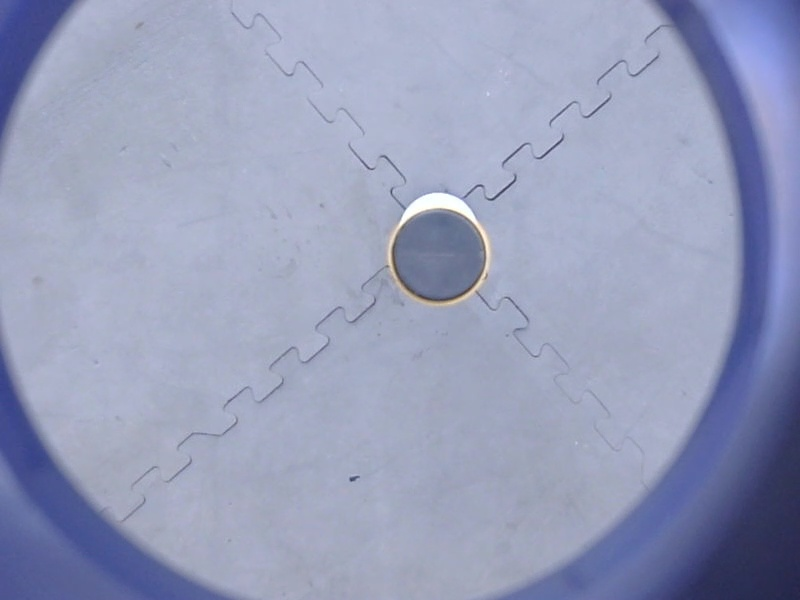tip: (381, 202, 497, 313)
